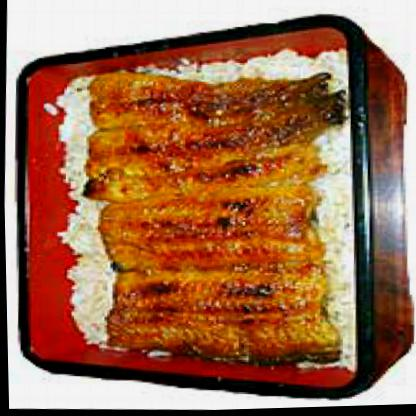eel: (71, 59, 349, 373)
